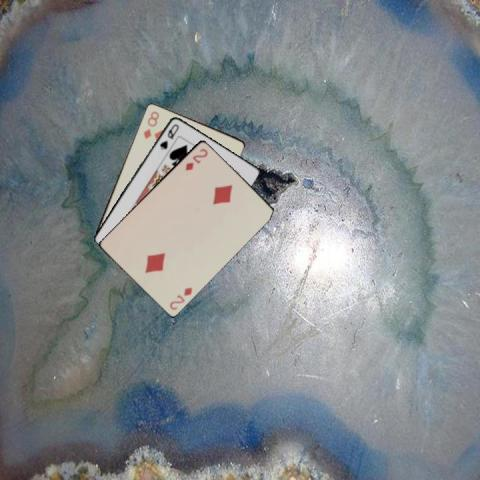2d: (183, 145, 209, 172), (167, 284, 193, 311)
8d: (140, 108, 161, 140)
Qs: (157, 120, 180, 150)
